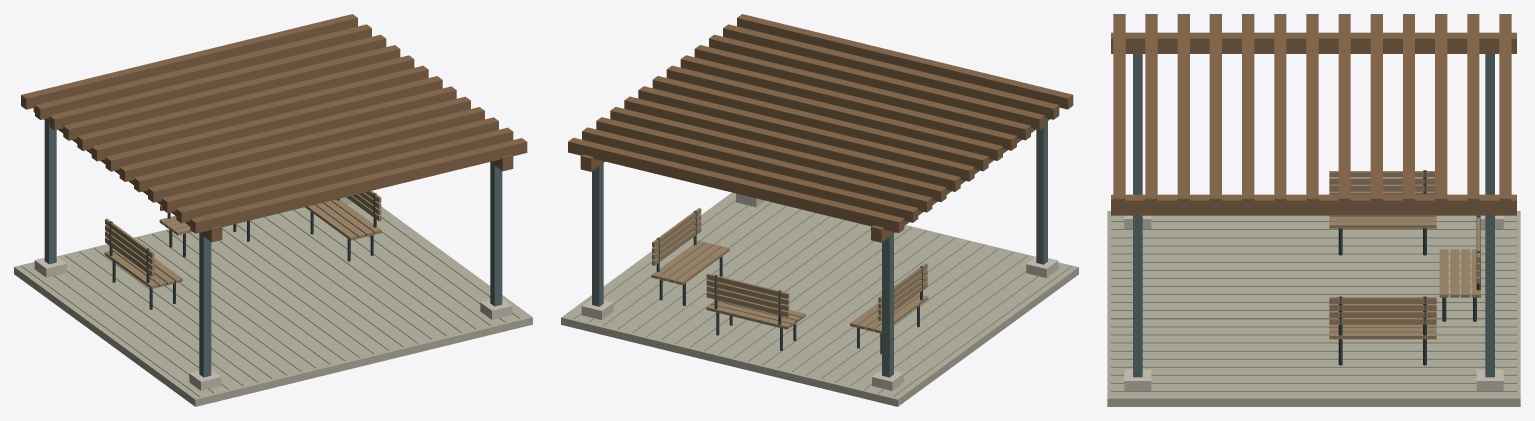
Rendered from pergola.glb.
The picture shows the model from 3 angles, left to right: view 1: azimuth 30°, elevation 25°; view 2: azimuth 150°, elevation 25°; view 3: azimuth 270°, elevation 25°; orthographic projection. The views are drawn at different scales.
Parts seen in each view (by area): view 1: korean-facade-parts-8b6b4c, korean-facade-parts-b9b6a4, korean-facade-parts-9b9c8d, korean-facade-parts-627475, korean-facade-parts-cec9b9, wood-1, wood-7; view 2: korean-facade-parts-8b6b4c, korean-facade-parts-b9b6a4, korean-facade-parts-9b9c8d, korean-facade-parts-627475, korean-facade-parts-cec9b9, wood-1, wood-8, wood-2, wood-6, wood-4, wood-7; view 3: korean-facade-parts-b9b6a4, korean-facade-parts-8b6b4c, korean-facade-parts-9b9c8d, korean-facade-parts-627475, korean-facade-parts-cec9b9, wood-5 (×3), wood-7 (×2), wood-4 (×2), wood-6 (×2), wood-8 (×2), wood-3 (×2), wood-1 (+1 smaller).
Part boxes in pixels (x1=…): korean-facade-parts-8b6b4c: x1=21, y1=14, x2=527, y2=242; korean-facade-parts-b9b6a4: x1=14, y1=203, x2=532, y2=406; korean-facade-parts-9b9c8d: x1=21, y1=209, x2=519, y2=396; korean-facade-parts-627475: x1=44, y1=120, x2=502, y2=377; korean-facade-parts-cec9b9: x1=34, y1=197, x2=512, y2=390; wood-1: x1=104, y1=251, x2=158, y2=289; wood-7: x1=305, y1=205, x2=357, y2=240; korean-facade-parts-8b6b4c: x1=568, y1=14, x2=1073, y2=242; korean-facade-parts-b9b6a4: x1=561, y1=192, x2=1078, y2=406; korean-facade-parts-9b9c8d: x1=574, y1=200, x2=1071, y2=396; korean-facade-parts-627475: x1=592, y1=121, x2=1047, y2=377; korean-facade-parts-cec9b9: x1=581, y1=193, x2=1058, y2=390; wood-1: x1=706, y1=304, x2=791, y2=329; wood-8: x1=706, y1=273, x2=789, y2=298; wood-2: x1=706, y1=291, x2=789, y2=317; wood-6: x1=706, y1=279, x2=789, y2=304; wood-4: x1=706, y1=285, x2=789, y2=310; wood-7: x1=675, y1=246, x2=729, y2=285; korean-facade-parts-b9b6a4: x1=1107, y1=211, x2=1520, y2=406; korean-facade-parts-8b6b4c: x1=1111, y1=14, x2=1516, y2=215; korean-facade-parts-9b9c8d: x1=1111, y1=221, x2=1516, y2=391; korean-facade-parts-627475: x1=1133, y1=54, x2=1494, y2=377; korean-facade-parts-cec9b9: x1=1124, y1=215, x2=1503, y2=390; wood-5 (×3): x1=1329, y1=217, x2=1459, y2=327; wood-7 (×2): x1=1329, y1=221, x2=1448, y2=297; wood-4 (×2): x1=1329, y1=184, x2=1436, y2=317; wood-6 (×2): x1=1329, y1=178, x2=1436, y2=310; wood-8 (×2): x1=1329, y1=171, x2=1436, y2=303; wood-3 (×2): x1=1329, y1=249, x2=1470, y2=332; wood-1: x1=1329, y1=332, x2=1436, y2=339.
Size of the model in its own units: 5.8 by 2.99 by 5.4.
